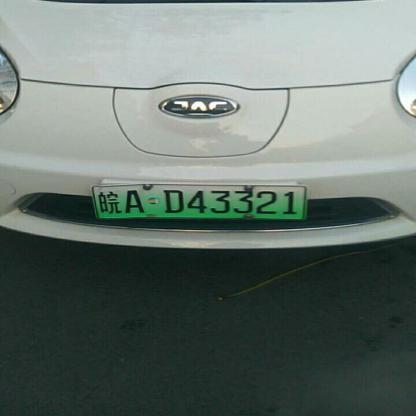lp: (94, 186, 306, 218)
